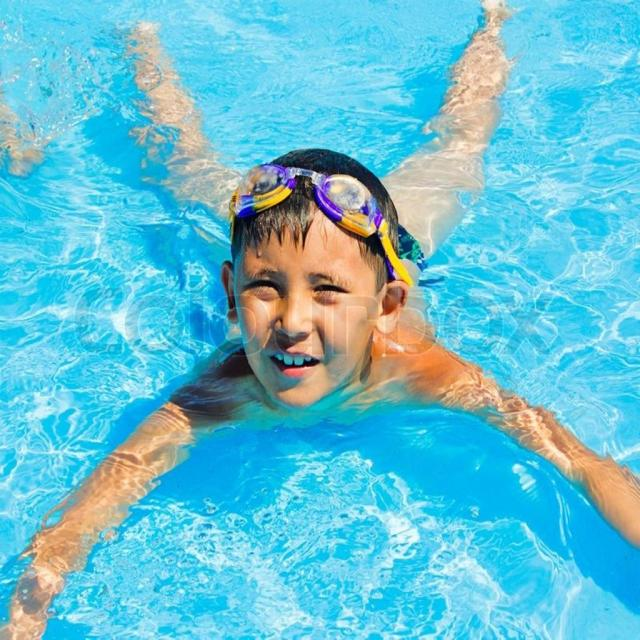Face: (236, 182, 385, 420)
